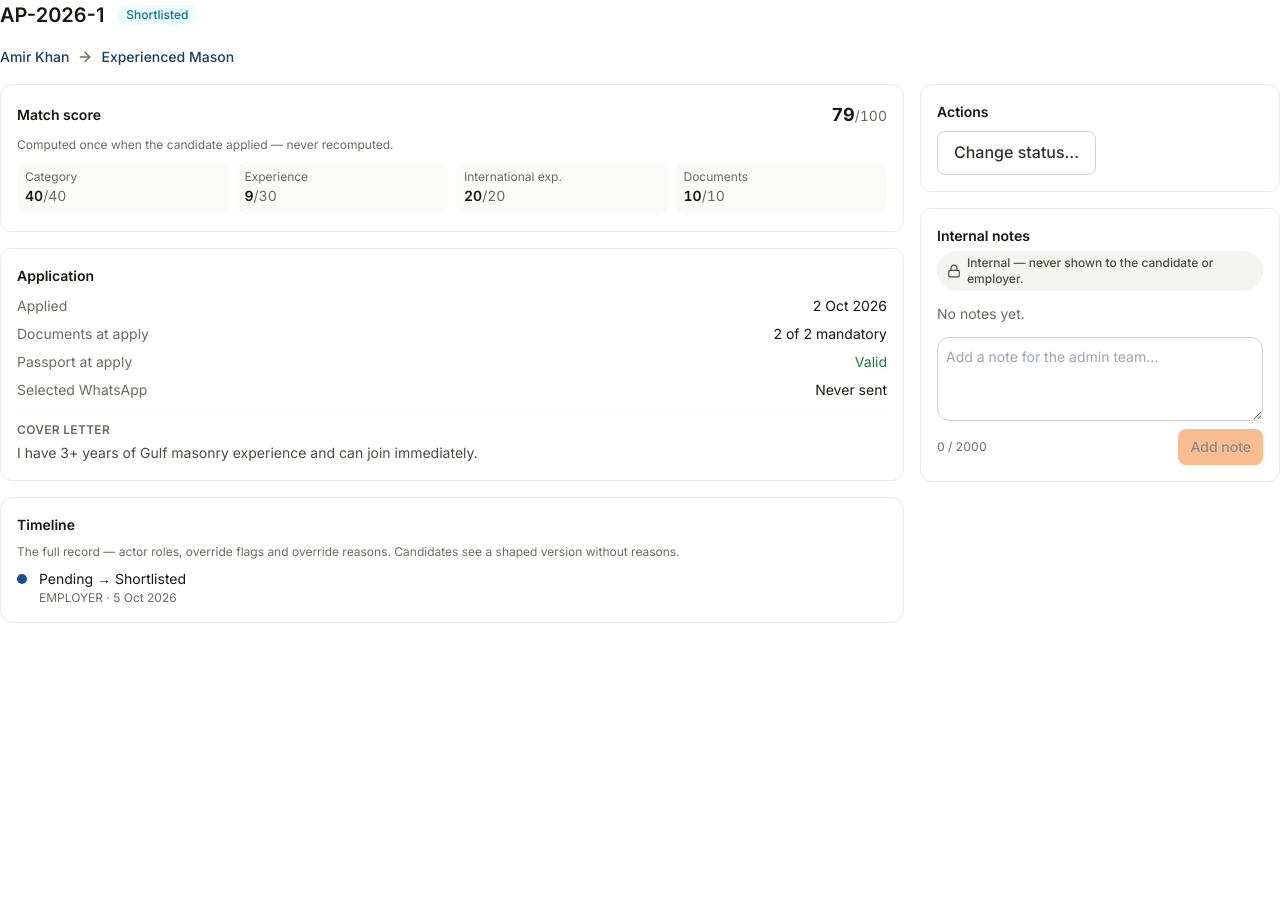
it: OverrideDialog › blocks without a reason and states the NEUTRAL-entry truth before the admin types
Check: the heading "AP-2026-1" is shown, box [0,0,104,30]
Click the button "Change status…".
click(1017, 153)  # box [937,131,1096,175]
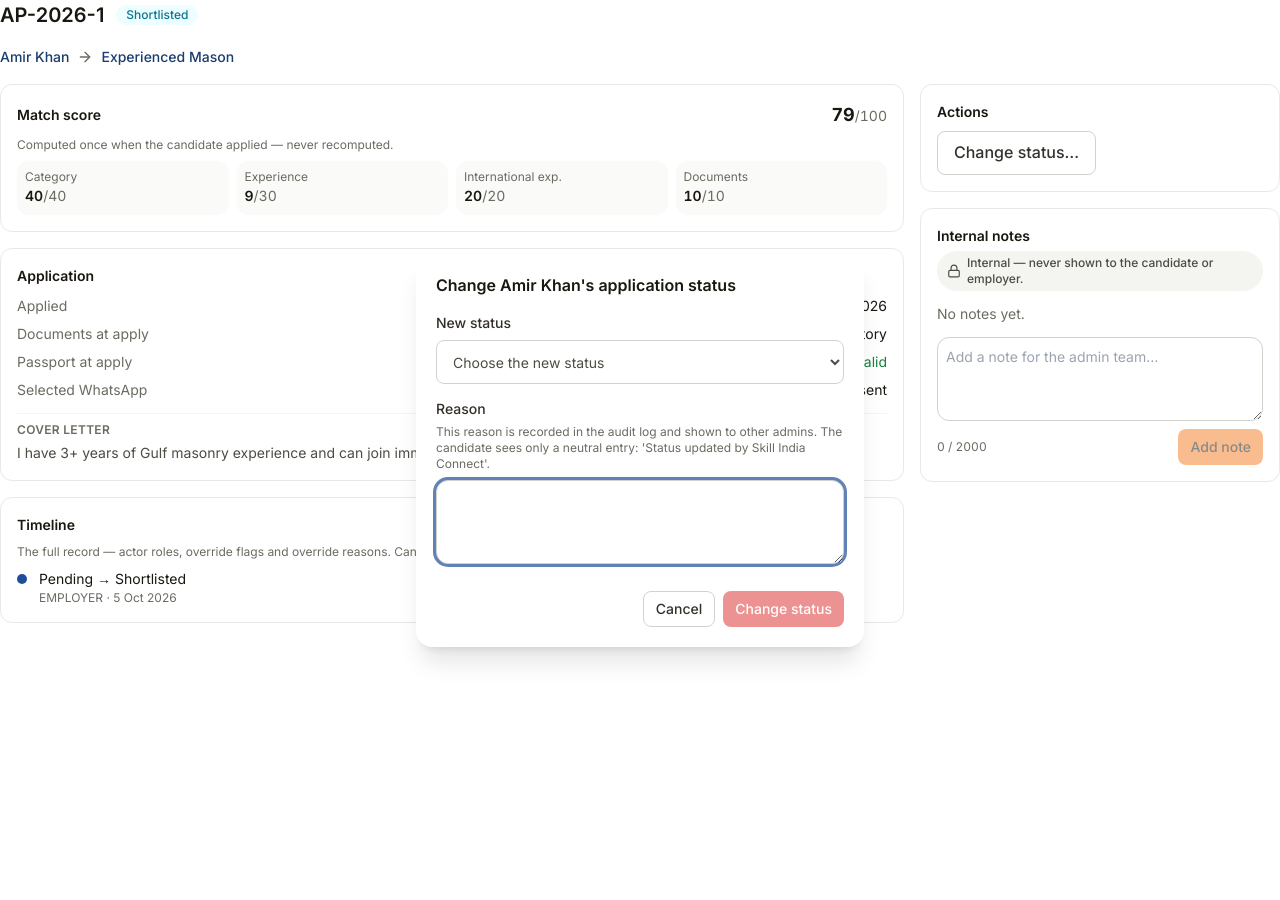
Check: the text "'Status updated by Skill India Connect'" is shown, box [436,424,842,471]
Check: the button "Change status" is disabled, box [723,591,844,627]
Select "Rejected" in the dropdown labelled "New status" at (640, 362), box [436,340,844,384]
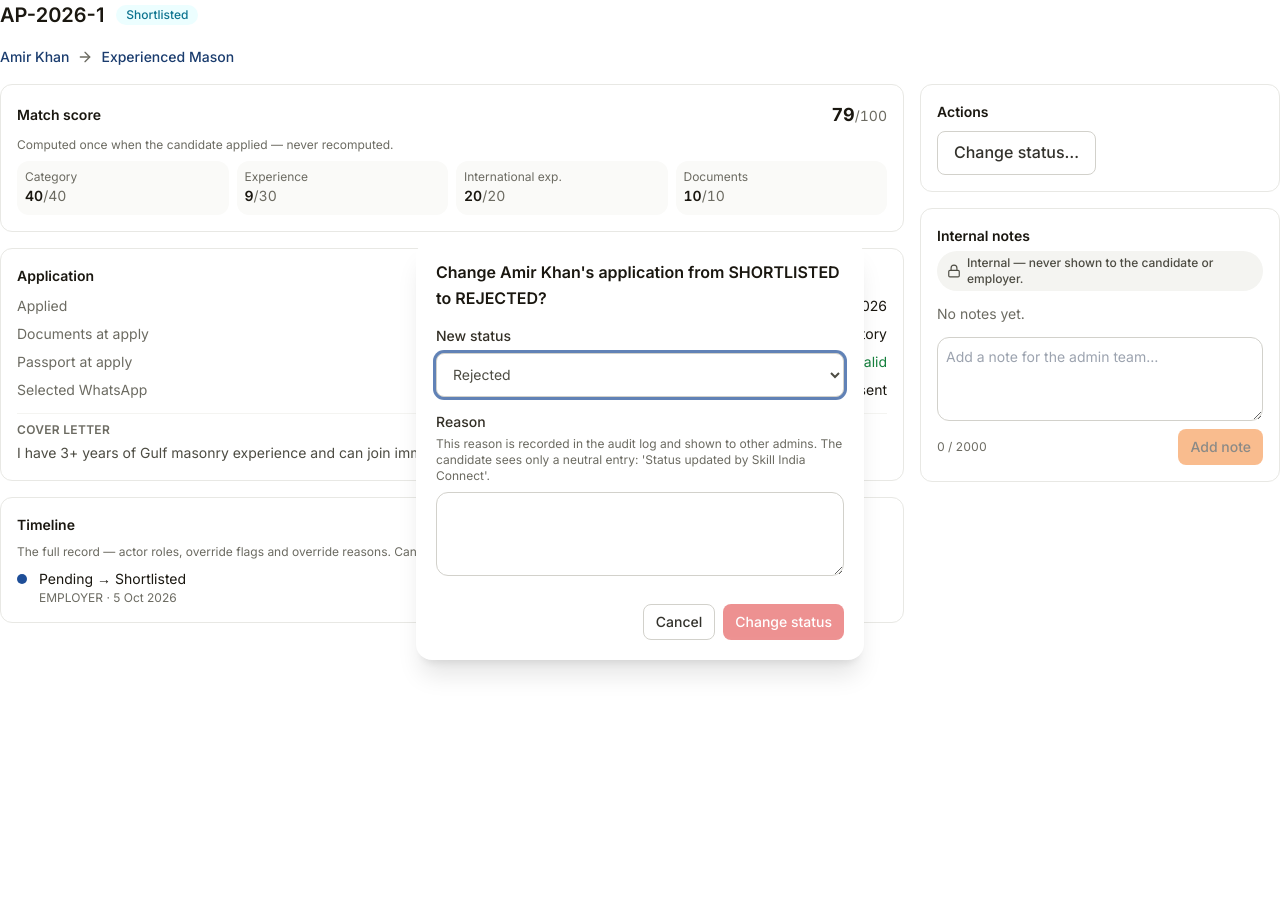
Check: the button "Change status" is disabled, box [723,604,844,640]
Type "Employer requested correction." into the text box labelled "Reason".
click(640, 534); type("Employer requested correction.")  # box [436,492,844,576]
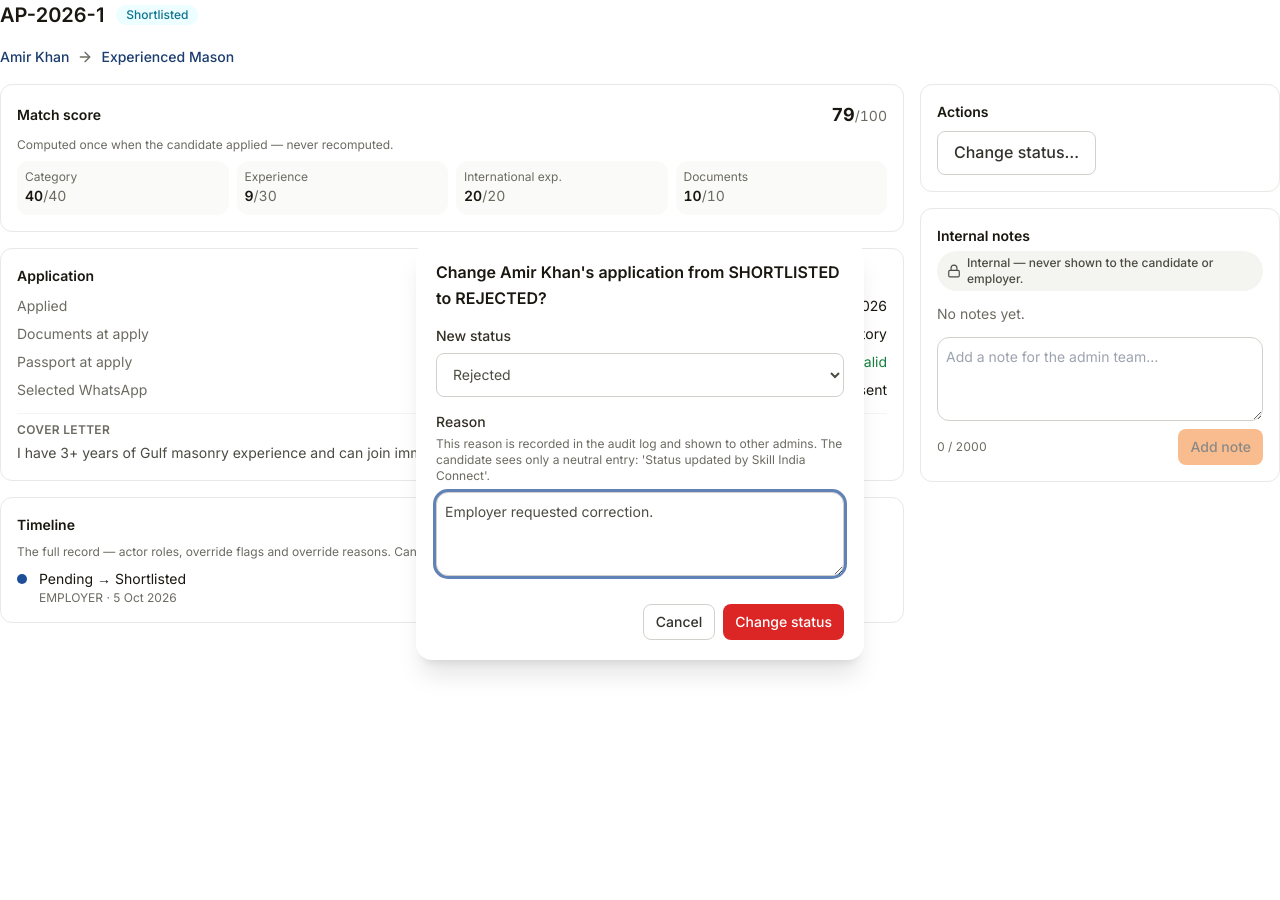
Check: the button "Change status" is enabled, box [723,604,844,640]
